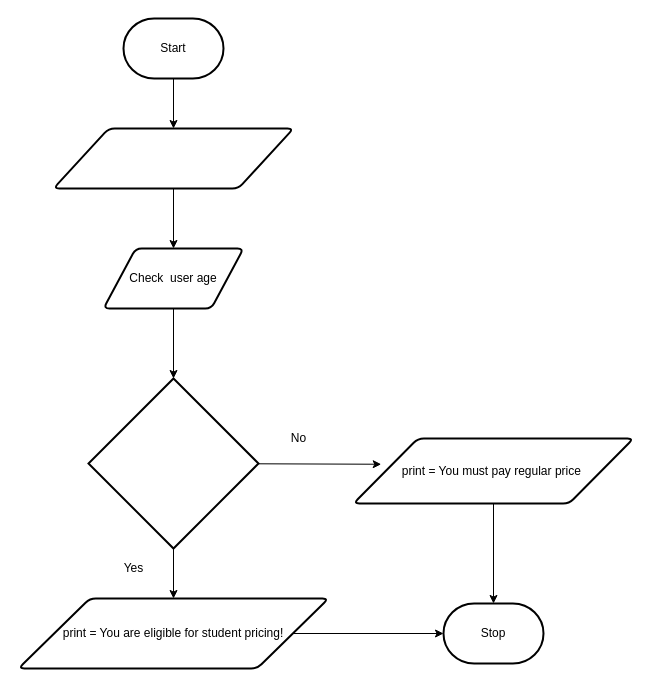
Some shapes in this 651 by 686 pixel diagram are drawn without their labels. The box of each missing label's shape, as (x1, y1, x2, y2) in pixels:
Check your radio box for day: (52, 127, 294, 189)
if((tuesday == true || thursday == true) && (age > 12 && age < 21)): (87, 377, 259, 549)
